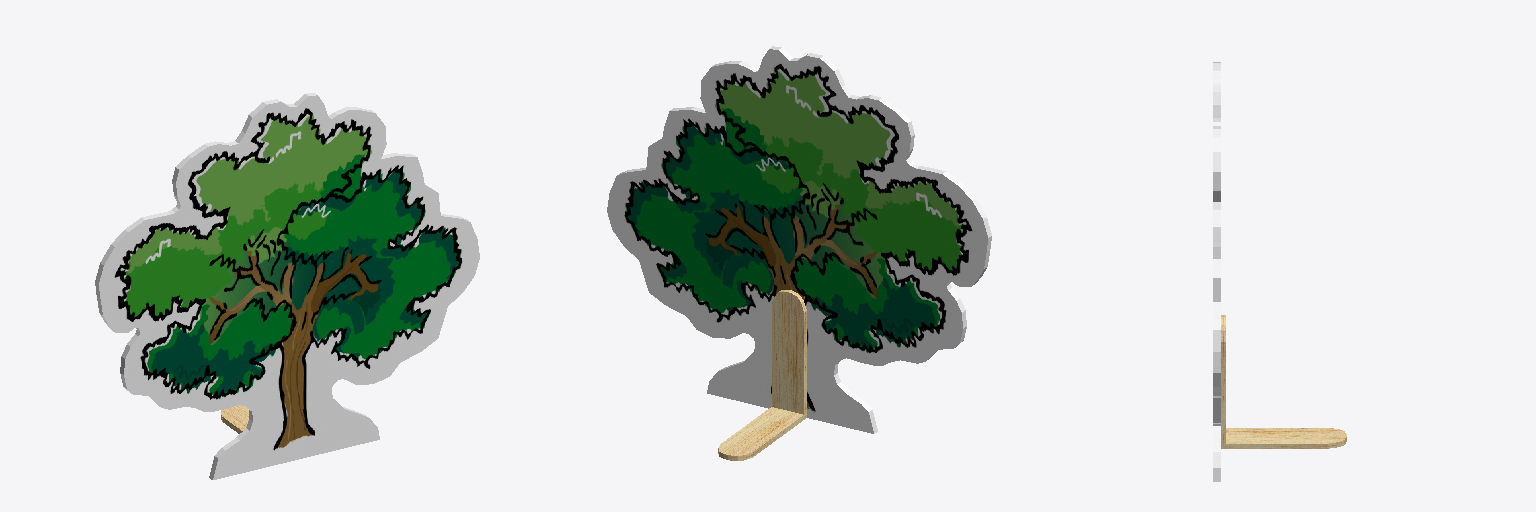
3 views of the same model, side by side, from view 1: azimuth 30°, elevation 25°; view 2: azimuth 150°, elevation 25°; view 3: azimuth 270°, elevation 25° (orthographic).
Visible parts, largest first — view 1: Plane, Cube_Cube.003; view 2: Plane, Cube.001_Cube.005, Cube_Cube.003; view 3: Plane, Cube_Cube.003, Cube.001_Cube.005.
Part boxes in pixels (bbox=[...]): Plane: bbox=[95, 93, 479, 479]; Cube_Cube.003: bbox=[221, 405, 248, 433]; Plane: bbox=[607, 46, 991, 433]; Cube.001_Cube.005: bbox=[772, 290, 806, 414]; Cube_Cube.003: bbox=[718, 407, 806, 460]; Plane: bbox=[1213, 62, 1220, 481]; Cube_Cube.003: bbox=[1221, 428, 1346, 448]; Cube.001_Cube.005: bbox=[1221, 315, 1225, 443].
Bounding box in the file's own units: 4.56 × 4.14 × 1.38.
2 materials, 2 textured.